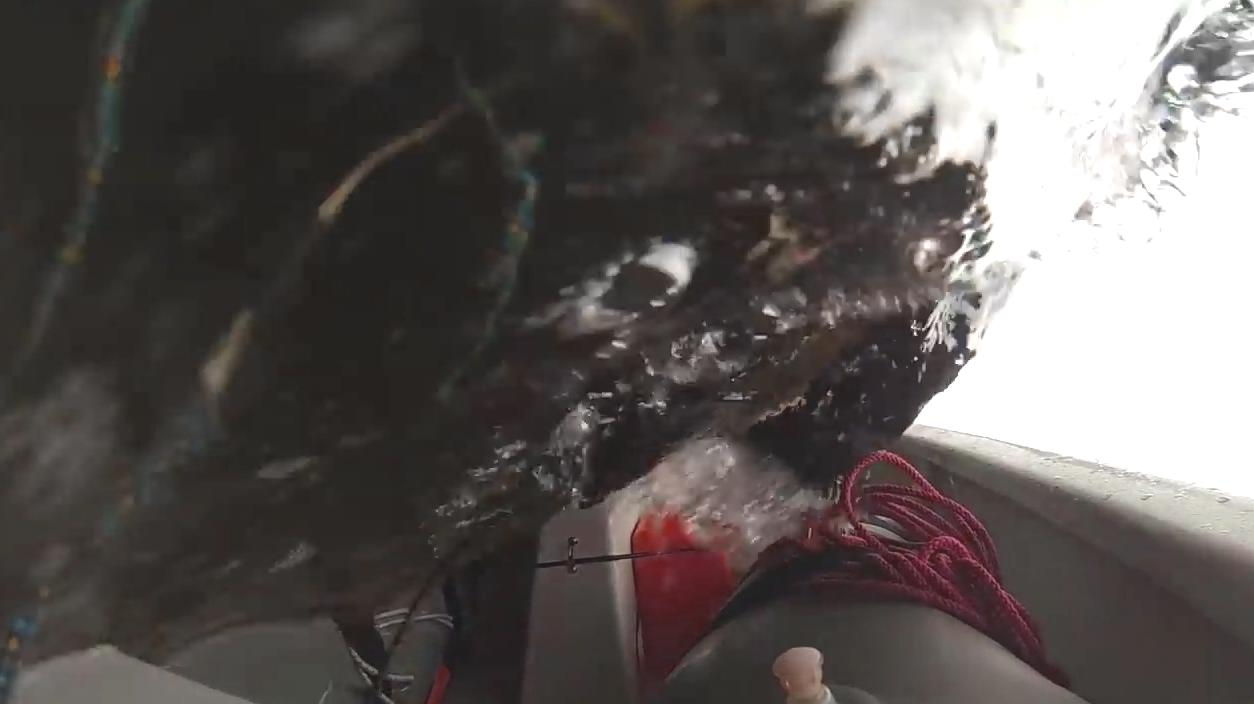boat: (10, 428, 1254, 704)
sea: (0, 0, 1254, 704)
sky: (913, 95, 1254, 500)
